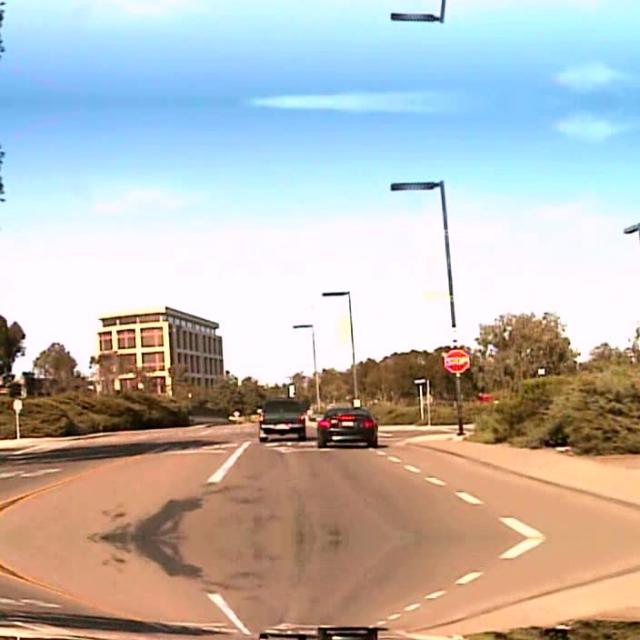stop: (443, 347, 469, 371)
